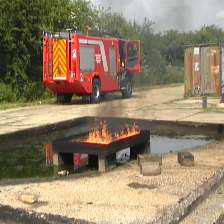fire_h: (76, 119, 112, 144), (114, 121, 140, 139)
